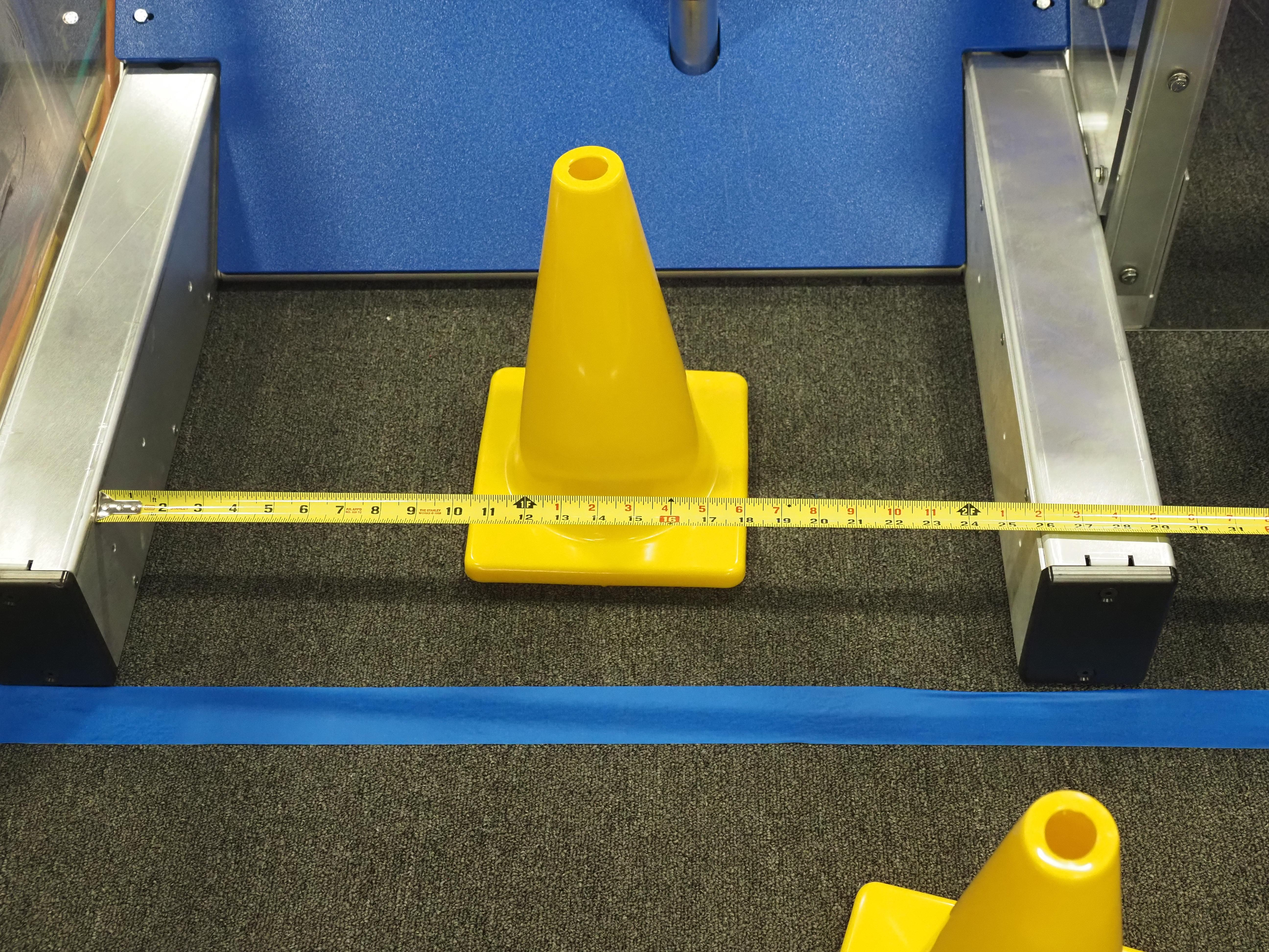cone: (452, 140, 767, 597)
